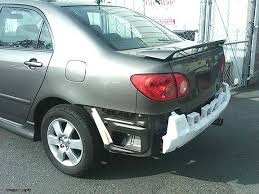Dent: (88, 102, 170, 159)
